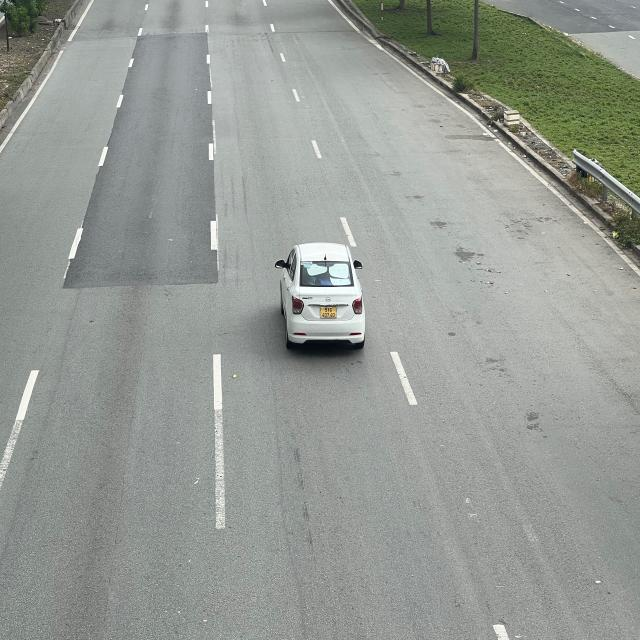car: (276, 242, 365, 350)
